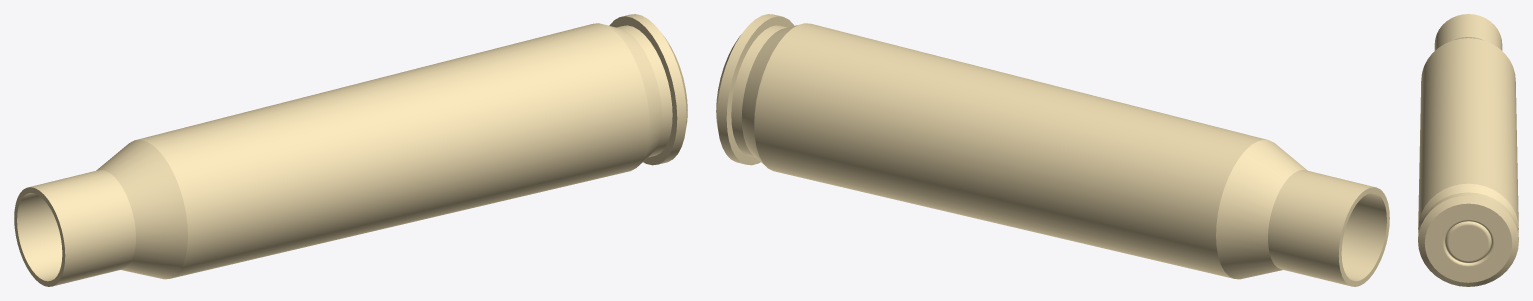
Rendered from ar15_shell.fbx.
The picture shows the model from 3 angles, left to right: view 1: azimuth 30°, elevation 25°; view 2: azimuth 150°, elevation 25°; view 3: azimuth 270°, elevation 25°; orthographic projection. The views are drawn at different scales.
Parts seen in each view (by area): view 1: shell.step; view 2: shell.step; view 3: shell.step.
Boxes of the visible parts, bbox=[...] form: shell.step: bbox=[14, 14, 687, 286]; shell.step: bbox=[716, 14, 1389, 286]; shell.step: bbox=[1418, 14, 1518, 286].
Bounding box in the file's own units: 4.47 × 0.96 × 0.96.
